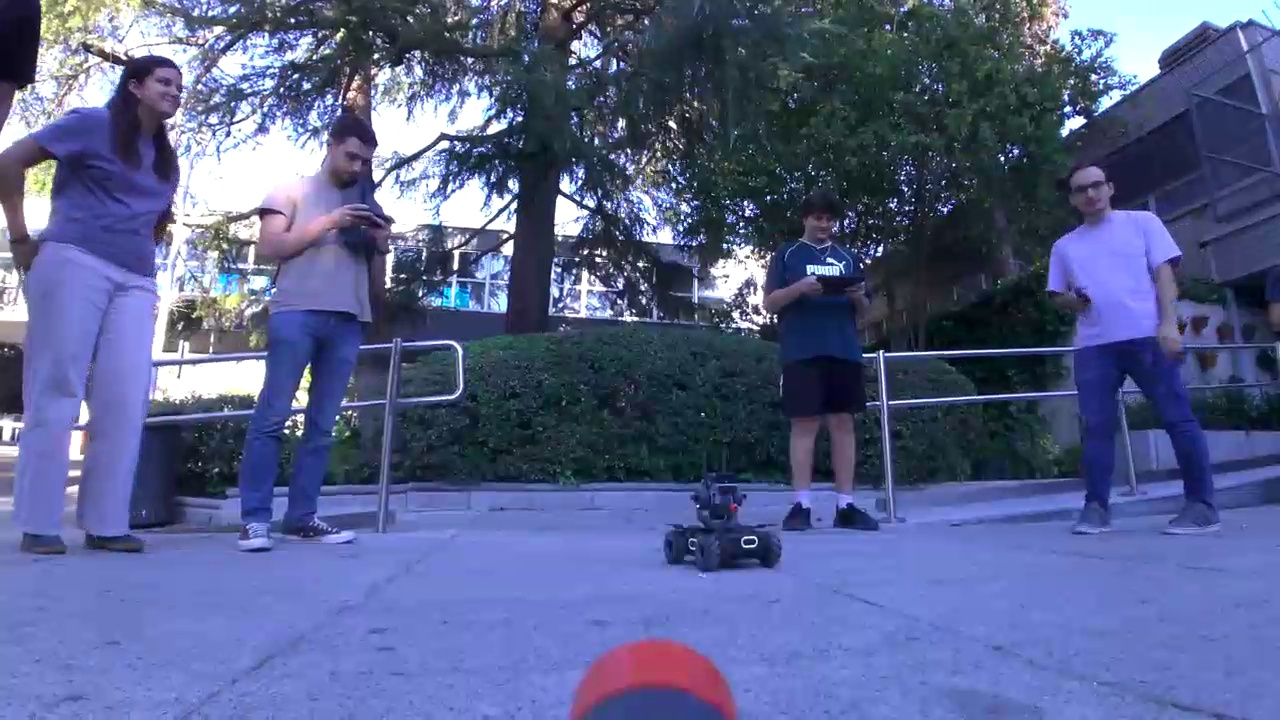robot: (654, 476, 788, 580)
